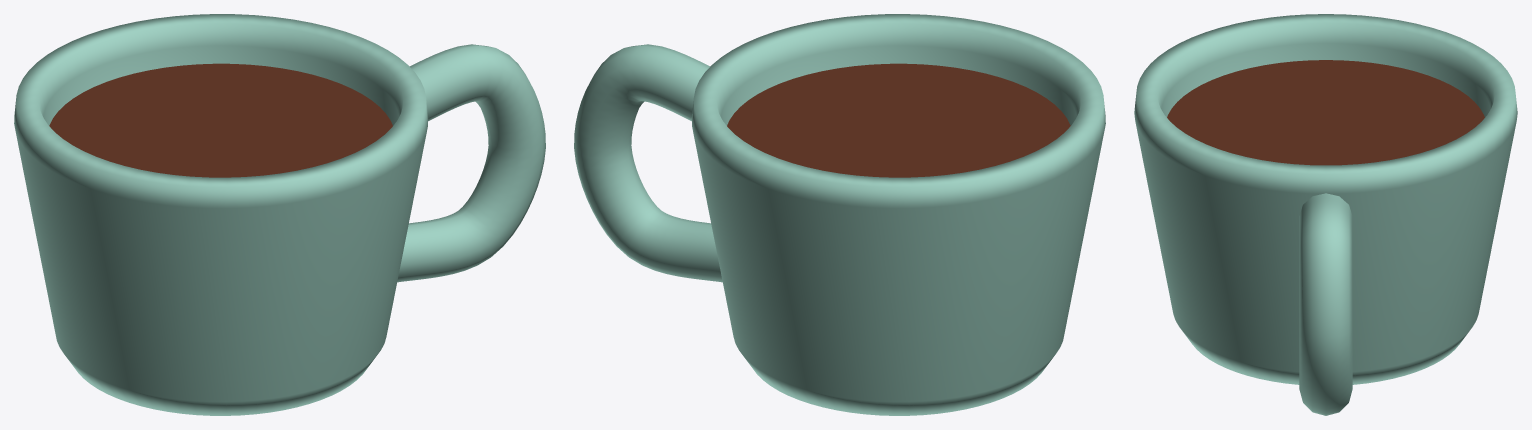
File: cup.glb
The picture shows the model from 3 angles, left to right: view 1: azimuth 30°, elevation 25°; view 2: azimuth 150°, elevation 25°; view 3: azimuth 270°, elevation 25°; orthographic projection. The views are drawn at different scales.
Visible parts, largest first — view 1: Sip_cup_shell, Sip_tea_surface, Sip_cup_handle; view 2: Sip_cup_shell, Sip_tea_surface, Sip_cup_handle; view 3: Sip_cup_shell, Sip_tea_surface, Sip_cup_handle.
Boxes of the visible parts, x1=… form: Sip_cup_shell: x1=14, y1=14, x2=428, y2=415; Sip_tea_surface: x1=49, y1=63, x2=392, y2=177; Sip_cup_handle: x1=397, y1=44, x2=545, y2=282; Sip_cup_shell: x1=691, y1=14, x2=1105, y2=415; Sip_tea_surface: x1=727, y1=63, x2=1070, y2=177; Sip_cup_handle: x1=574, y1=44, x2=722, y2=282; Sip_cup_shell: x1=1134, y1=14, x2=1517, y2=384; Sip_tea_surface: x1=1167, y1=60, x2=1484, y2=165; Sip_cup_handle: x1=1299, y1=193, x2=1352, y2=415.
Size of the model in its own units: 0.6436 by 0.3091 by 0.4616.
